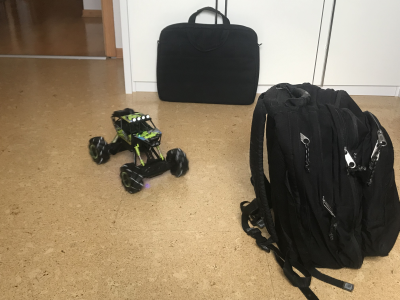remote control car: (85, 105, 191, 196)
